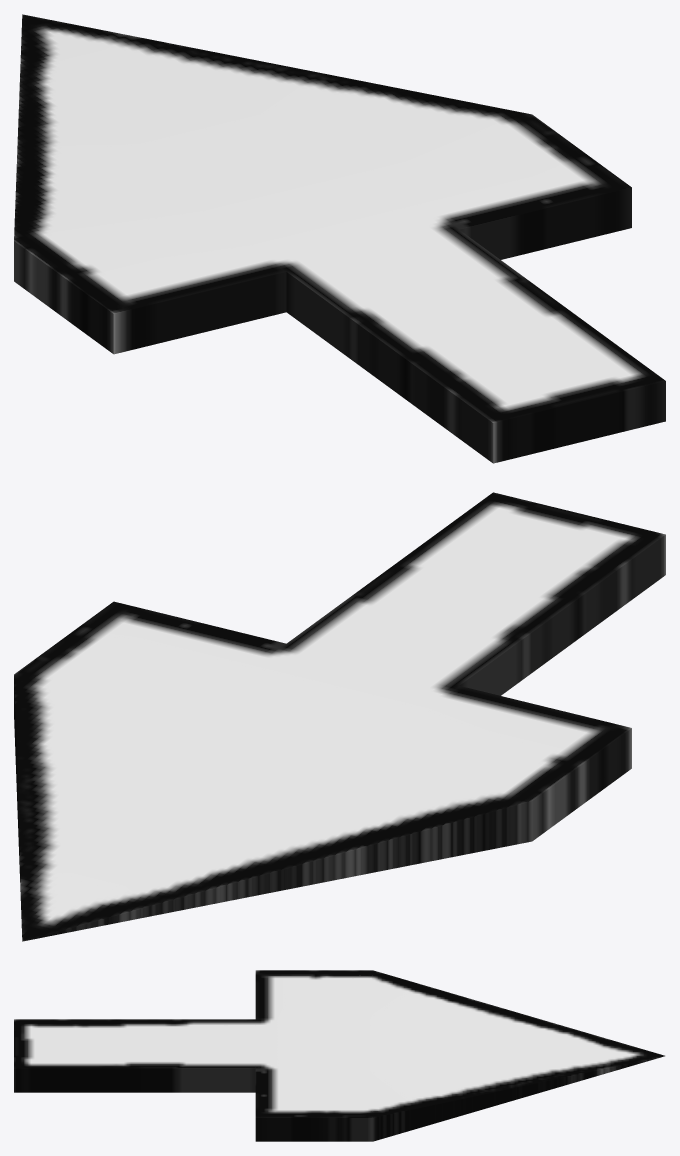
Rendered from arrow.glb.
3 views of the same model, one above another, from view 1: azimuth 30°, elevation 25°; view 2: azimuth 150°, elevation 25°; view 3: azimuth 270°, elevation 25° (orthographic). The views are drawn at different scales.
Visible parts, largest first — view 1: obj1; view 2: obj1; view 3: obj1.
Boxes of the visible parts, box(x1,y1,x2,y2) form: obj1: box(14, 14, 665, 463); obj1: box(14, 492, 665, 941); obj1: box(14, 970, 664, 1141).
Size of the model in its own units: 3 by 0.224 by 5.59.
1 material, 1 textured.
